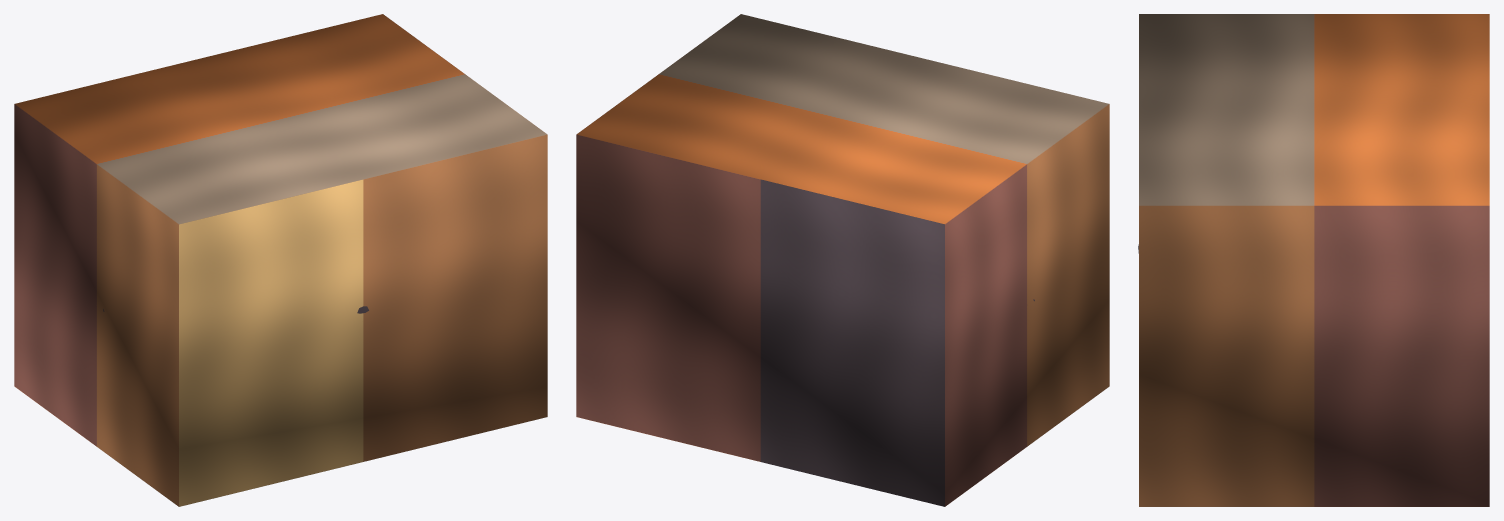
The model's file is rock_volcanic_a.glb.
The picture shows the model from 3 angles, left to right: view 1: azimuth 30°, elevation 25°; view 2: azimuth 150°, elevation 25°; view 3: azimuth 270°, elevation 25°; orthographic projection. The views are drawn at different scales.
Visible parts, largest first — view 1: col; view 2: col; view 3: col.
Part boxes in pixels (x1,y1,x2,y2): col: [14, 14, 547, 506]; col: [576, 14, 1109, 506]; col: [1139, 14, 1489, 506].
Size of the model in its own units: 2.15 by 1.58 by 1.67.
Materials: 1 (1 with a texture image).
